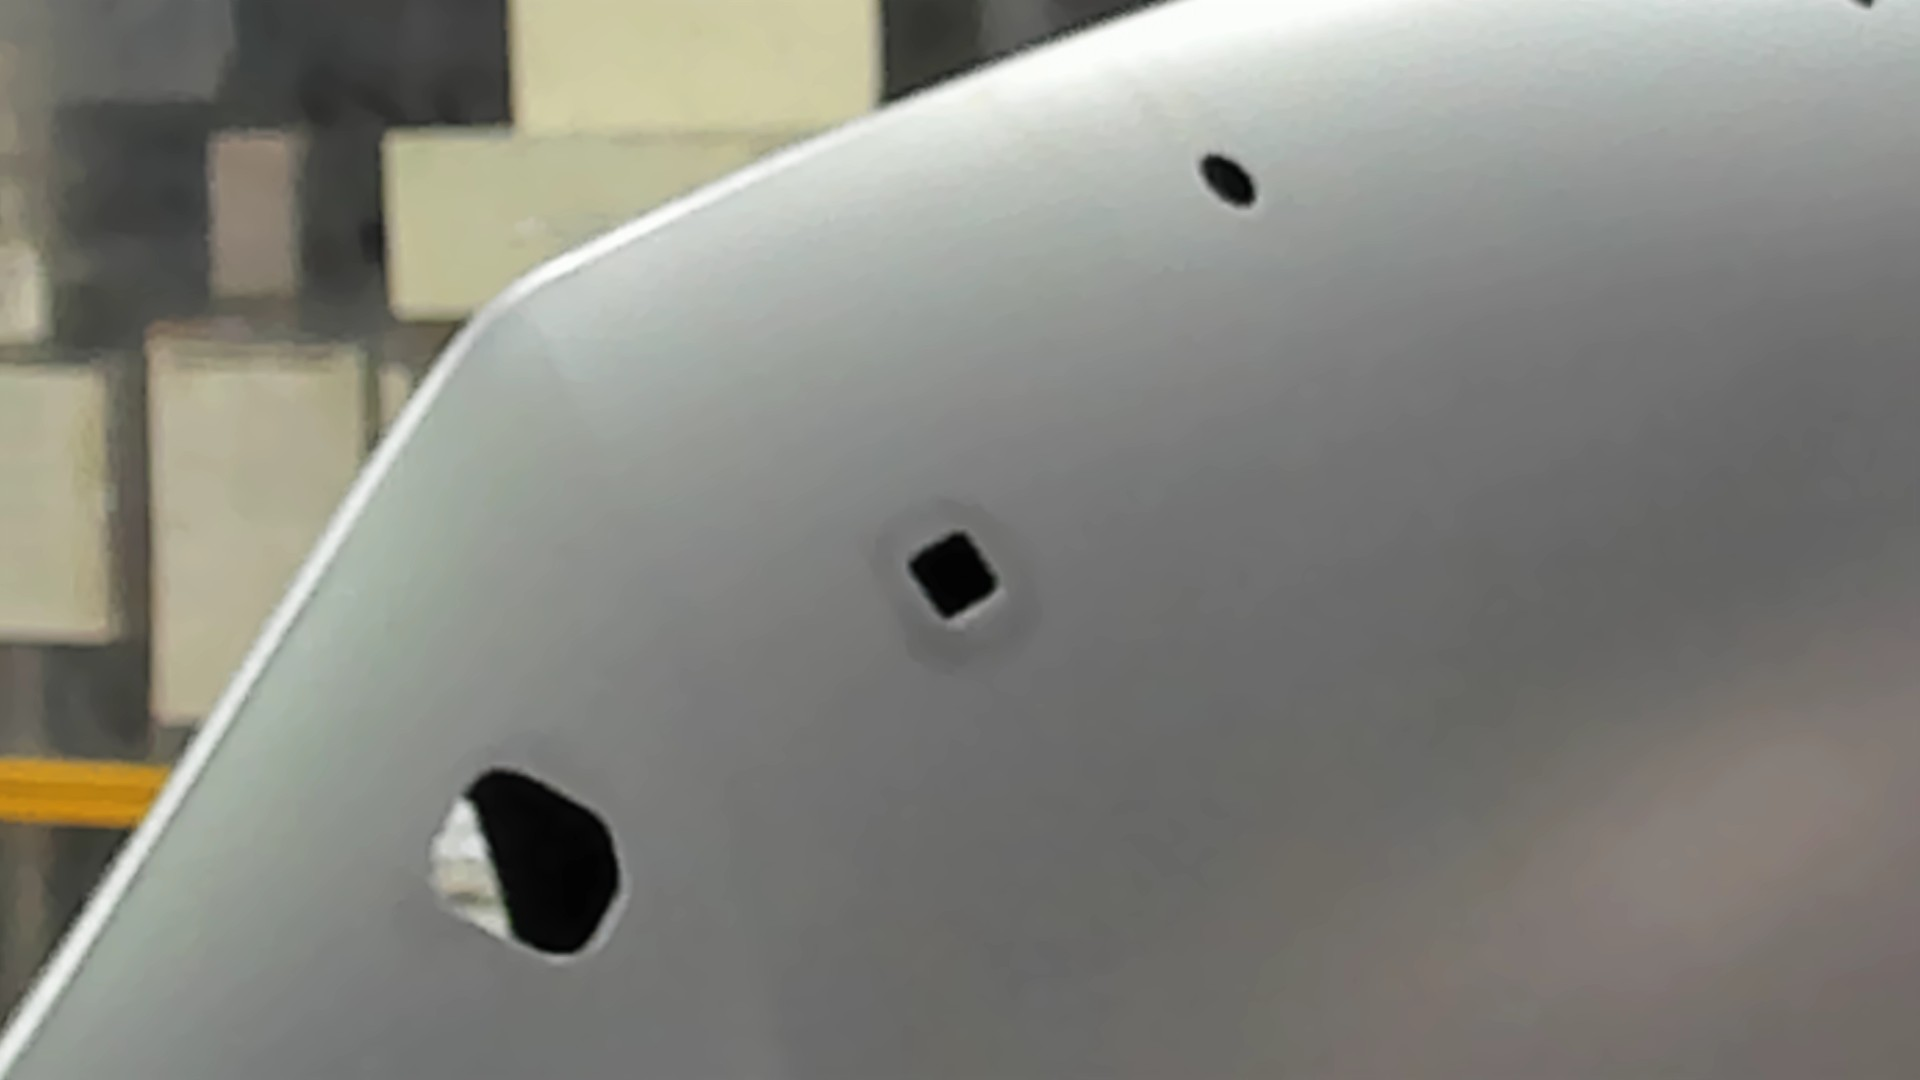chico: (1195, 146, 1263, 218)
grande: (415, 764, 630, 977)
mediano: (898, 524, 1009, 633)
